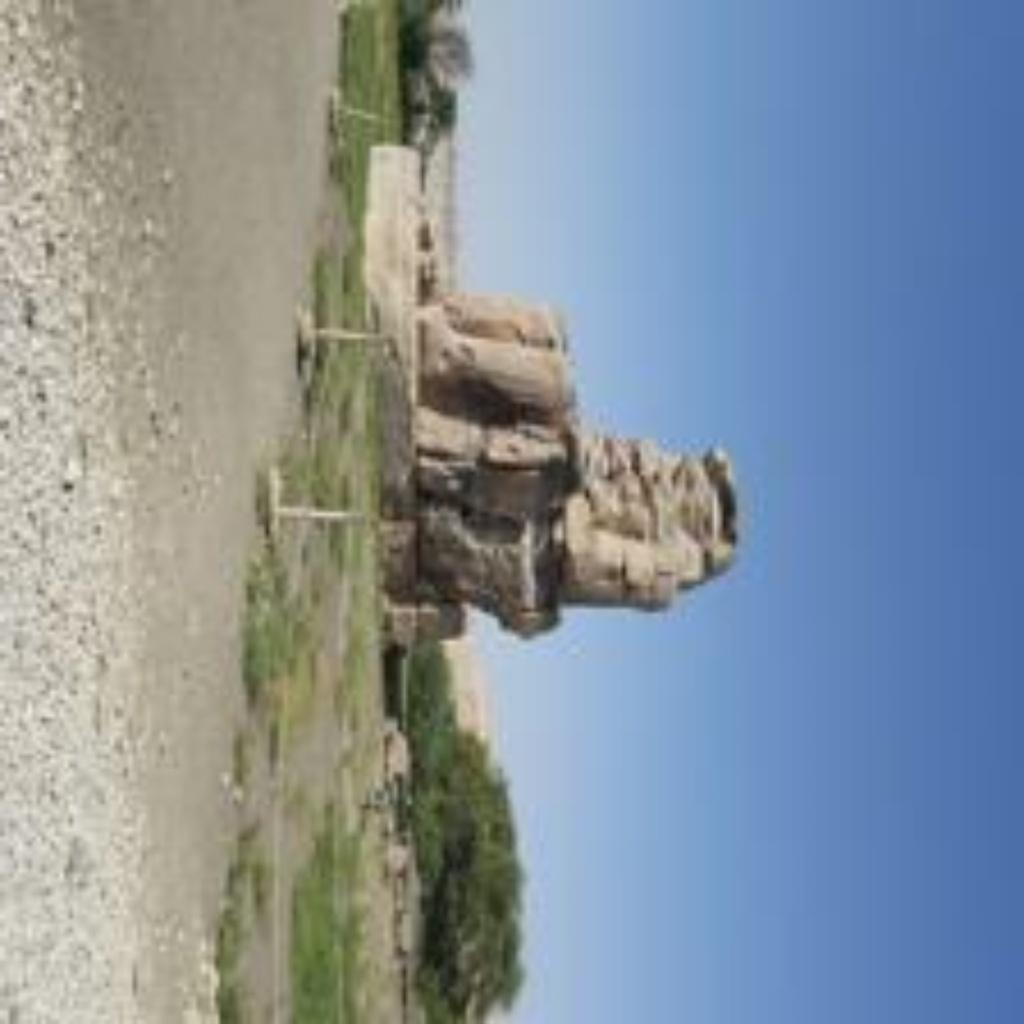Colossoi of Memnon: (4, 0, 750, 1019)
